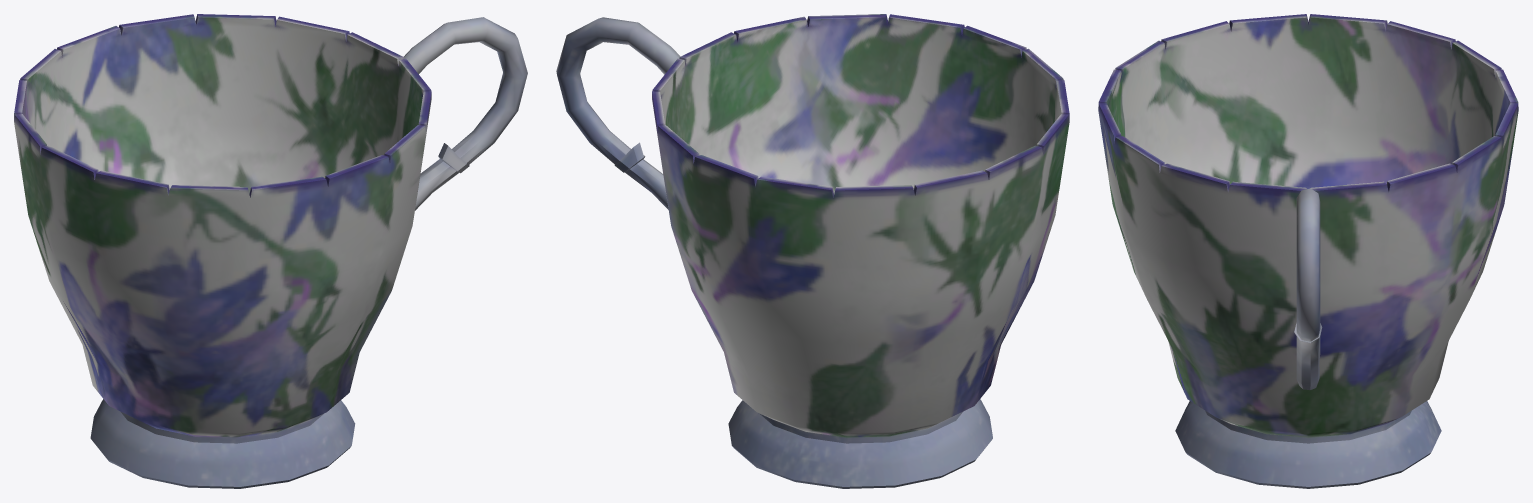
Rendered from SM_Teaset_Teacup.glb.
3 renders of one model, left to right at view 1: azimuth 30°, elevation 25°; view 2: azimuth 150°, elevation 25°; view 3: azimuth 270°, elevation 25°, orthographic.
Parts seen in each view (by area): view 1: SM_Teaset_Teacup; view 2: SM_Teaset_Teacup; view 3: SM_Teaset_Teacup.
Part boxes in pixels (<box>): SM_Teaset_Teacup: <box>14,14,527,488</box>; SM_Teaset_Teacup: <box>556,14,1069,488</box>; SM_Teaset_Teacup: <box>1098,14,1518,488</box>.
Size of the model in its own units: 0.1054 by 0.0737 by 0.0792.
Materials: 1 (1 with a texture image).
